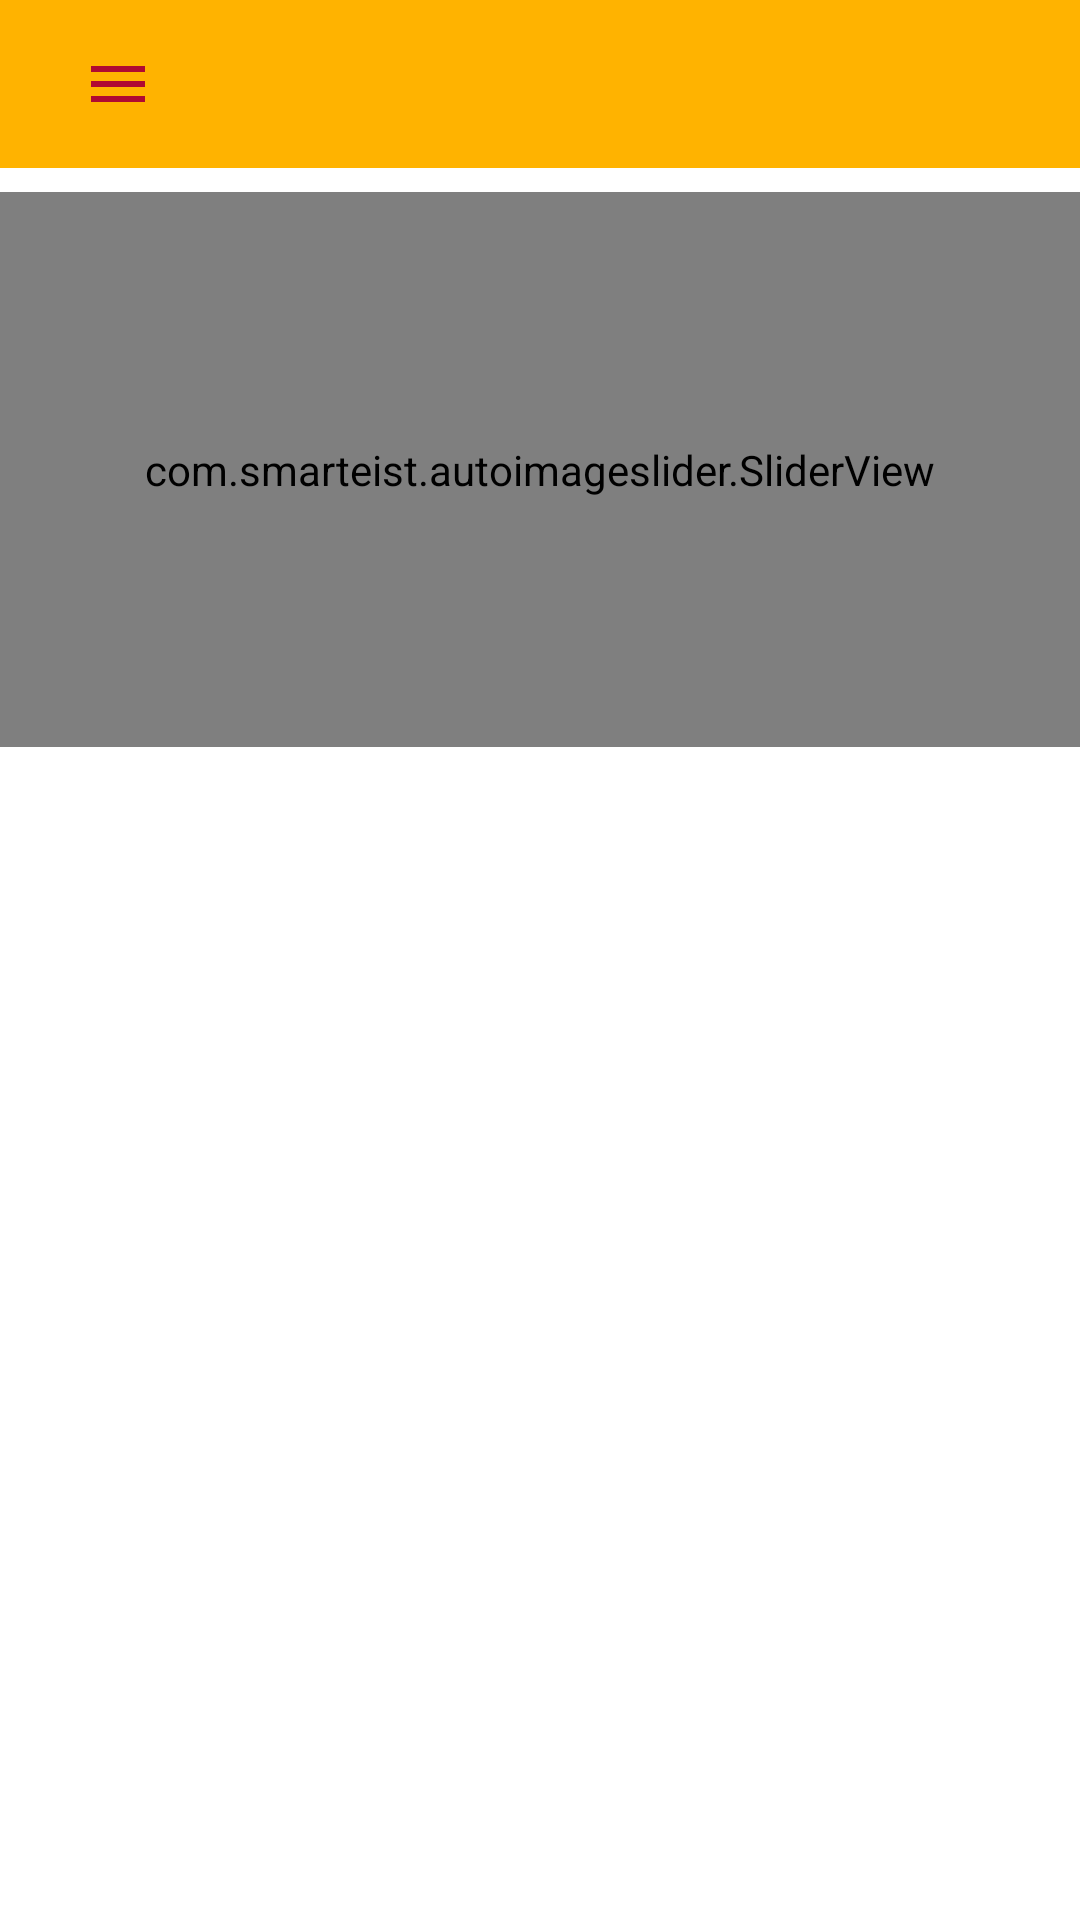

Named icons in this screenshot (1080px×1920px) and their bounding boxes, (x1, y1, x2, y2):
menu: (91, 66, 145, 102)
